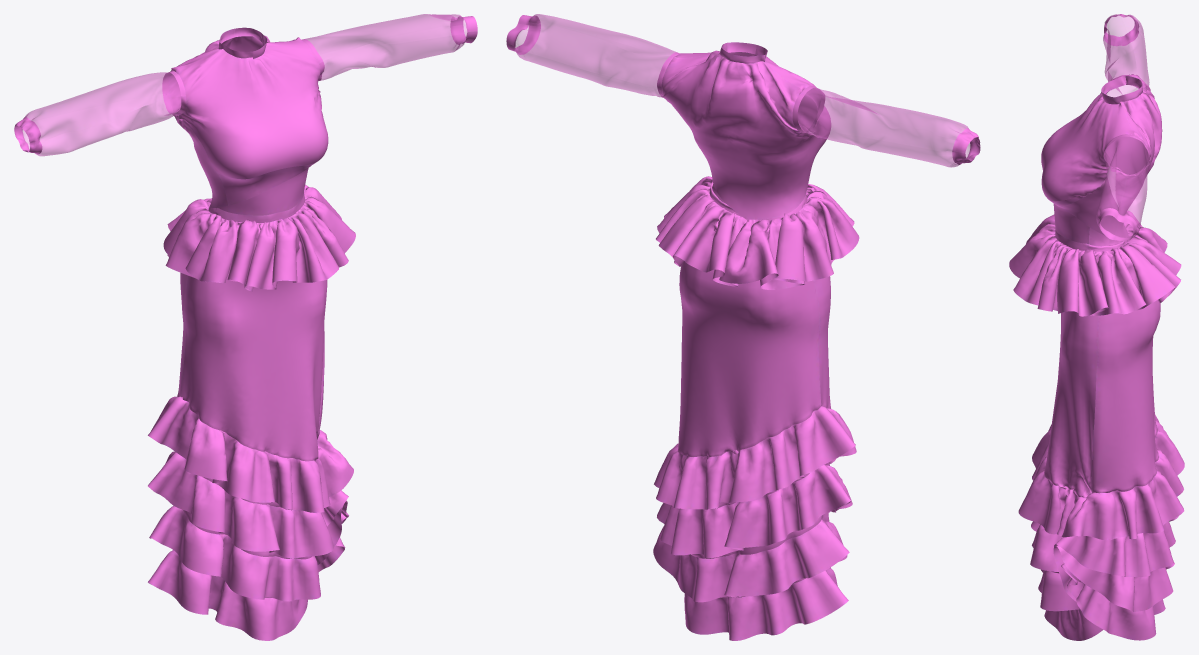
The model's file is G_pink.glb.
3 views of the same model, side by side, from view 1: azimuth 30°, elevation 25°; view 2: azimuth 150°, elevation 25°; view 3: azimuth 270°, elevation 25° (orthographic). The views are drawn at different scales.
Visible parts, largest first — view 1: Garment; view 2: Garment; view 3: Garment.
Part boxes in pixels (left/top/right/bottom): Garment: left=14, top=14, right=477, bottom=640; Garment: left=506, top=14, right=980, bottom=640; Garment: left=1009, top=14, right=1184, bottom=640.
Bounding box in the file's own units: 1.15 × 1.41 × 0.4119.
1 material, 1 textured.
